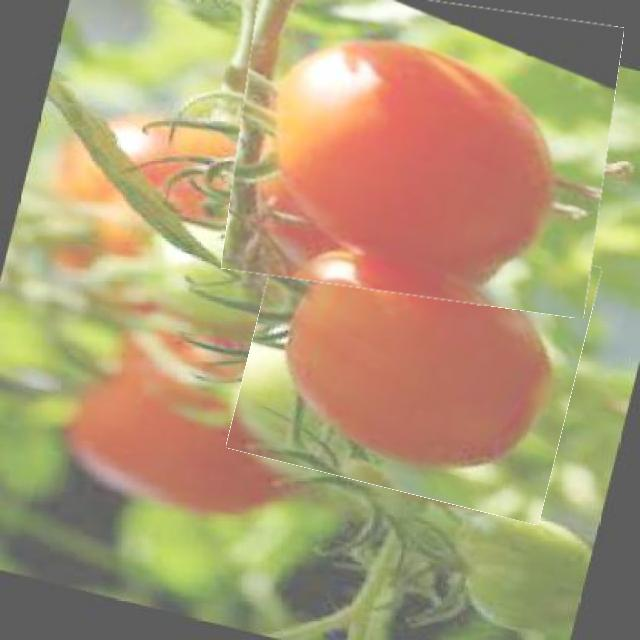tomato: (230, 0, 614, 306), (240, 208, 588, 507)
